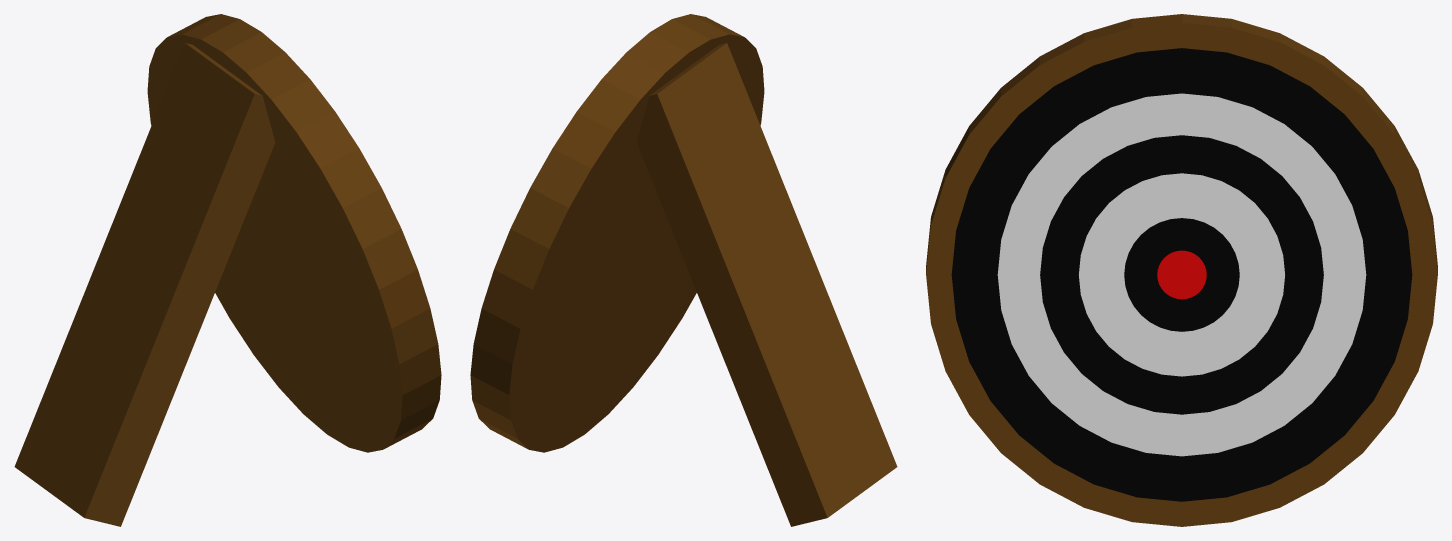
File: ShootingTarget.fbx
3 renders of one model, left to right at view 1: azimuth 30°, elevation 25°; view 2: azimuth 150°, elevation 25°; view 3: azimuth 270°, elevation 25°, orthographic. The views are drawn at different scales.
Parts seen in each view (by area): view 1: Cylinder; view 2: Cylinder; view 3: Cylinder.
Boxes of the visible parts, left/top/right/bottom form: Cylinder: left=14, top=14, right=441, bottom=526; Cylinder: left=470, top=14, right=897, bottom=526; Cylinder: left=926, top=14, right=1437, bottom=526.
Size of the model in its own units: 157 by 202 by 200.
